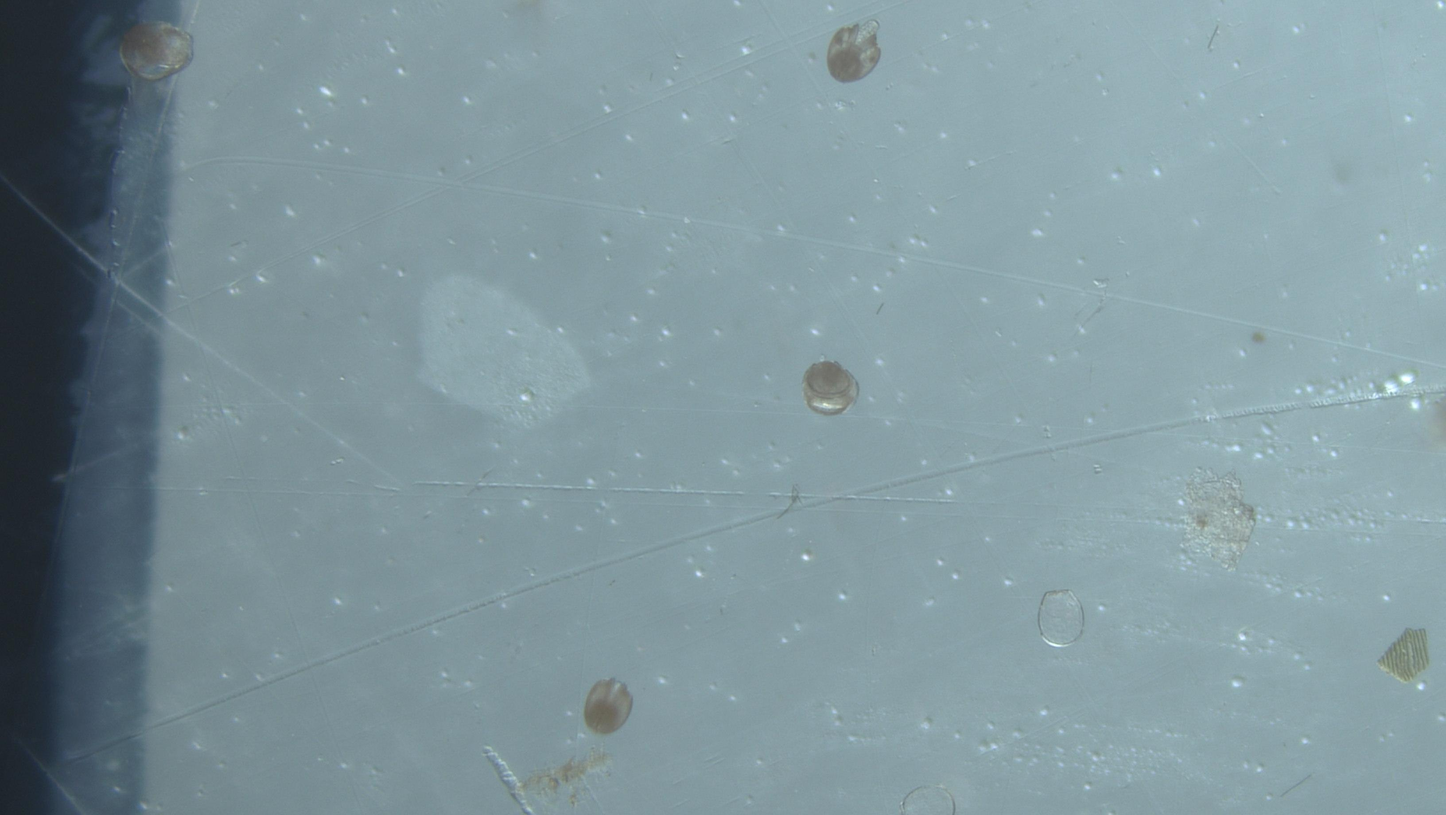dead: (1038, 590, 1084, 648)
live: (120, 23, 193, 81), (827, 20, 881, 83), (803, 361, 859, 416), (583, 679, 634, 735)
